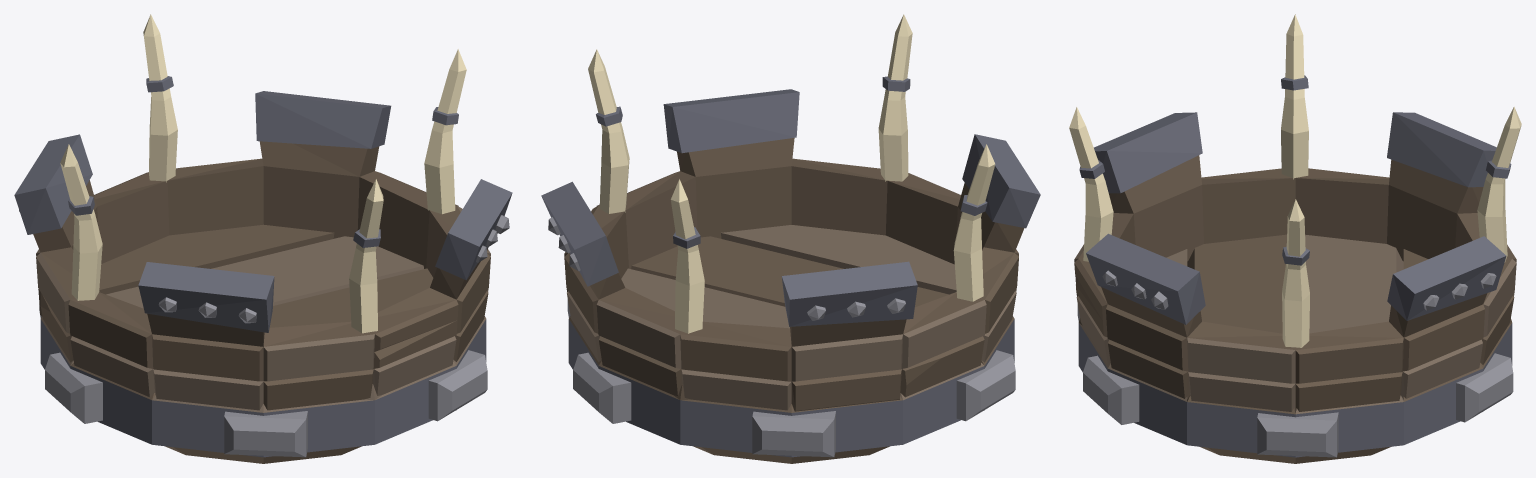
Rendered from _TOWER_3_UP_01.fbx.
3 renders of one model, left to right at view 1: azimuth 30°, elevation 25°; view 2: azimuth 150°, elevation 25°; view 3: azimuth 270°, elevation 25°, orthographic. The views are drawn at different scales.
Visible parts, largest first — view 1: TOWER_3_UP_01; view 2: TOWER_3_UP_01; view 3: TOWER_3_UP_01.
Part boxes in pixels (x1,y1,x2,y2): TOWER_3_UP_01: (14,14,512,463); TOWER_3_UP_01: (541,14,1040,463); TOWER_3_UP_01: (1069,14,1521,463).
Size of the model in its own units: 650 by 450 by 628.
